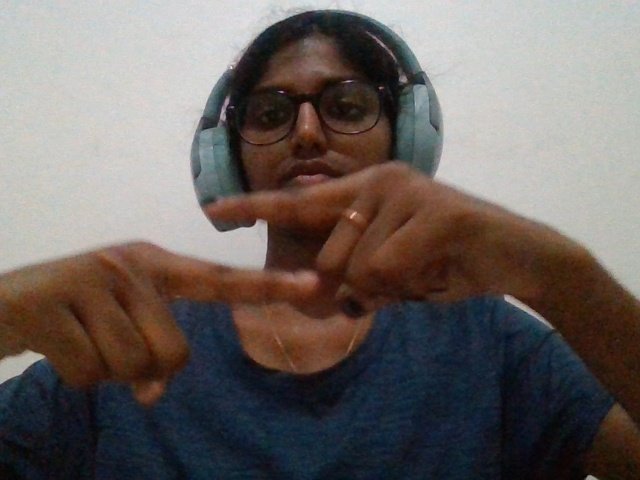Sign: (2, 147, 609, 418)
